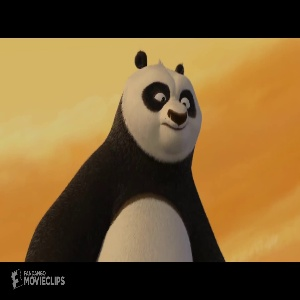po: (21, 49, 229, 261)
